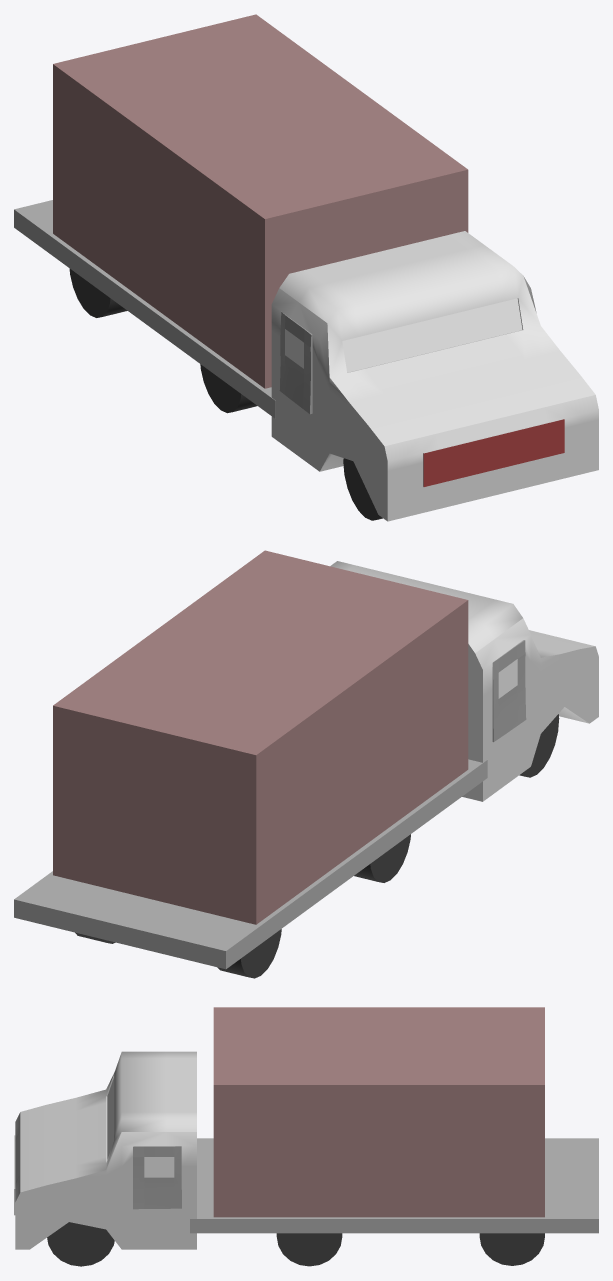
Rendered from Large Truck.fbx.
The picture shows the model from 3 angles, top to bottom: view 1: azimuth 30°, elevation 25°; view 2: azimuth 150°, elevation 25°; view 3: azimuth 270°, elevation 25°; orthographic projection. The views are drawn at different scales.
Parts seen in each view (by area): view 1: polySurface21, pCylinder8, pCylinder7, pCylinder6; view 2: polySurface21, pCylinder8, pCylinder7, pCylinder6; view 3: polySurface21, pCylinder1, pCylinder4, pCylinder5.
Part boxes in pixels (bbox=[...]): polySurface21: bbox=[14, 14, 598, 521]; pCylinder8: bbox=[69, 268, 127, 317]; pCylinder7: bbox=[200, 364, 256, 413]; pCylinder6: bbox=[343, 458, 382, 520]; polySurface21: bbox=[14, 550, 598, 969]; pCylinder8: bbox=[217, 929, 281, 978]; pCylinder7: bbox=[354, 834, 410, 882]; pCylinder6: bbox=[519, 714, 559, 777]; polySurface21: bbox=[14, 1007, 598, 1249]; pCylinder1: bbox=[47, 1222, 114, 1266]; pCylinder4: bbox=[276, 1233, 342, 1266]; pCylinder5: bbox=[479, 1233, 544, 1265].
Bounding box in the file's own units: 2.95 × 3.13 × 8.83.
